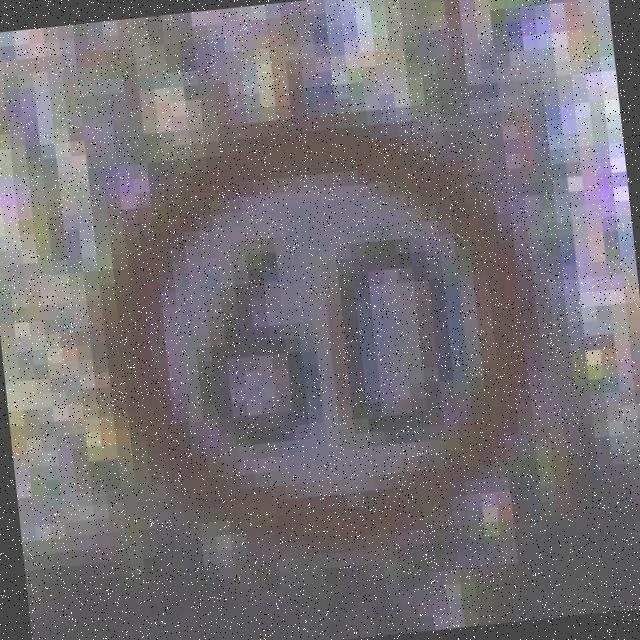Ograniczenie predkosci do 60: (29, 29, 640, 637)
